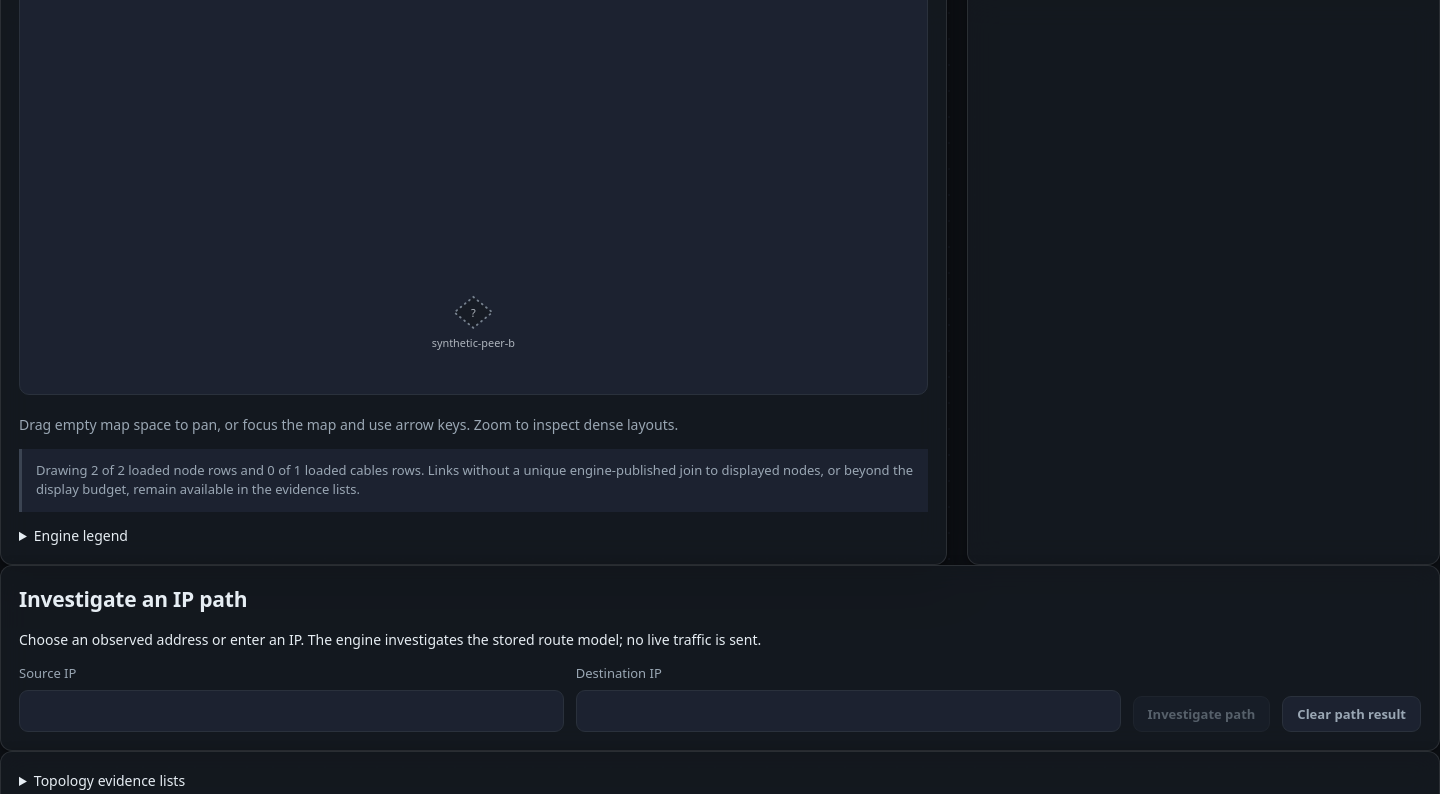
Scenario: Engine-owned topology and path screen › retains ambiguous cable records without drawing a hostname-derived connection
(page scrolled)
Expected: the text "Links without a unique engine-published join" is shown, top-left (36, 461), bottom-right (913, 498)
Step 1. Click the heading "Topology evidence lists" → (109, 780), box top-left (34, 771), bottom-right (185, 790)
(page scrolled)
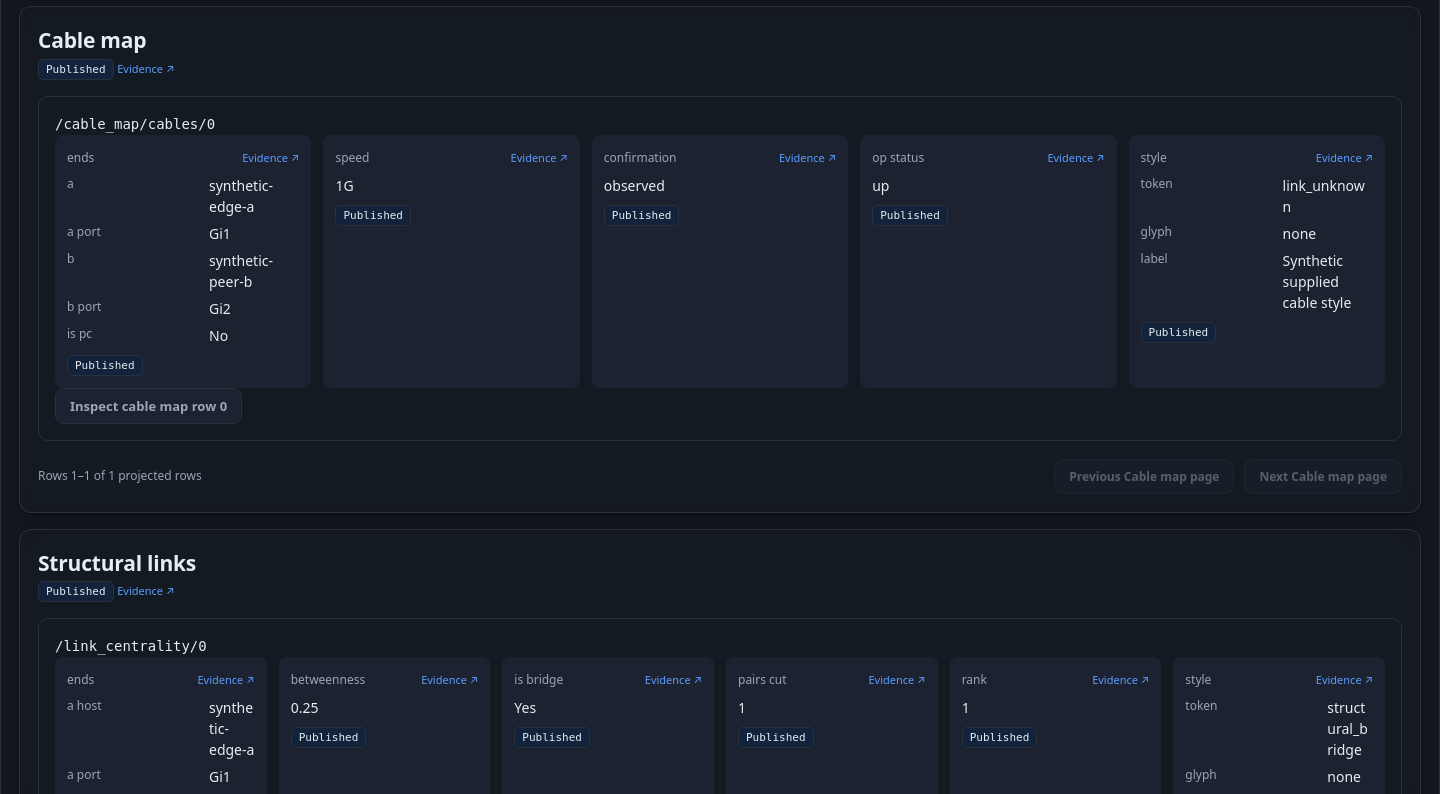
Expected: the button "Inspect cable map row 0" is shown, top-left (55, 388), bottom-right (242, 424)
